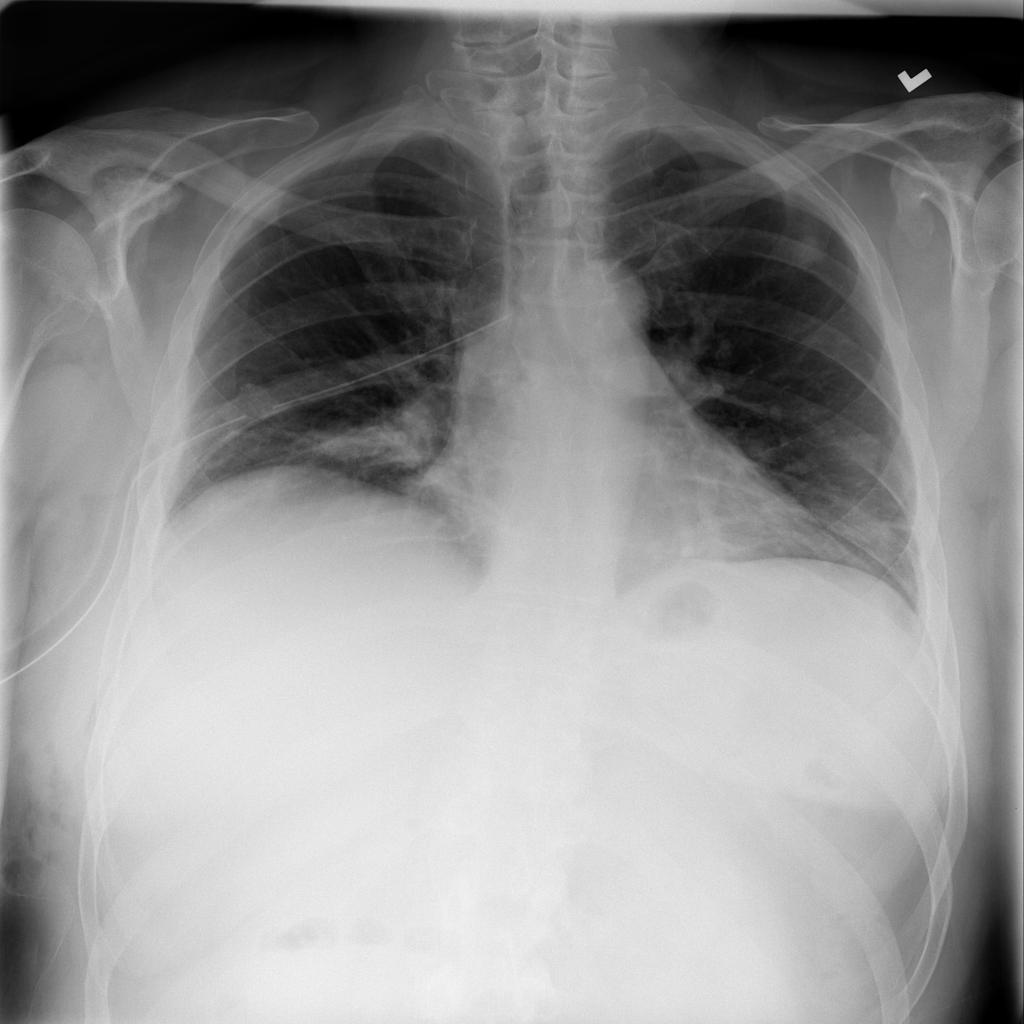nodule: (814, 421, 900, 492), (772, 216, 848, 281)
